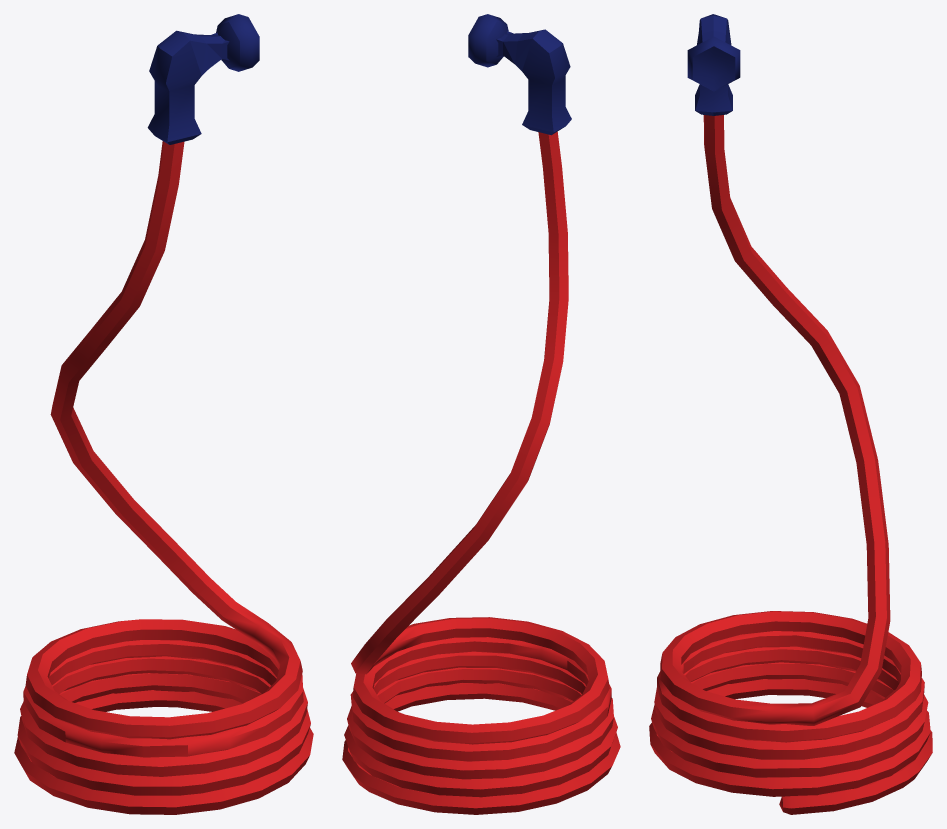
The model's file is hose.fbx.
The picture shows the model from 3 angles, left to right: view 1: azimuth 30°, elevation 25°; view 2: azimuth 150°, elevation 25°; view 3: azimuth 270°, elevation 25°; orthographic projection. The views are drawn at different scales.
Parts seen in each view (by area): view 1: Box001; view 2: Box001; view 3: Box001.
Part boxes in pixels (x1,y1,x2,y2): Box001: [14, 14, 313, 814]; Box001: [342, 14, 620, 814]; Box001: [649, 14, 932, 814].
Size of the model in its own units: 84.64 by 240 by 83.86.
1 material, 1 textured.
